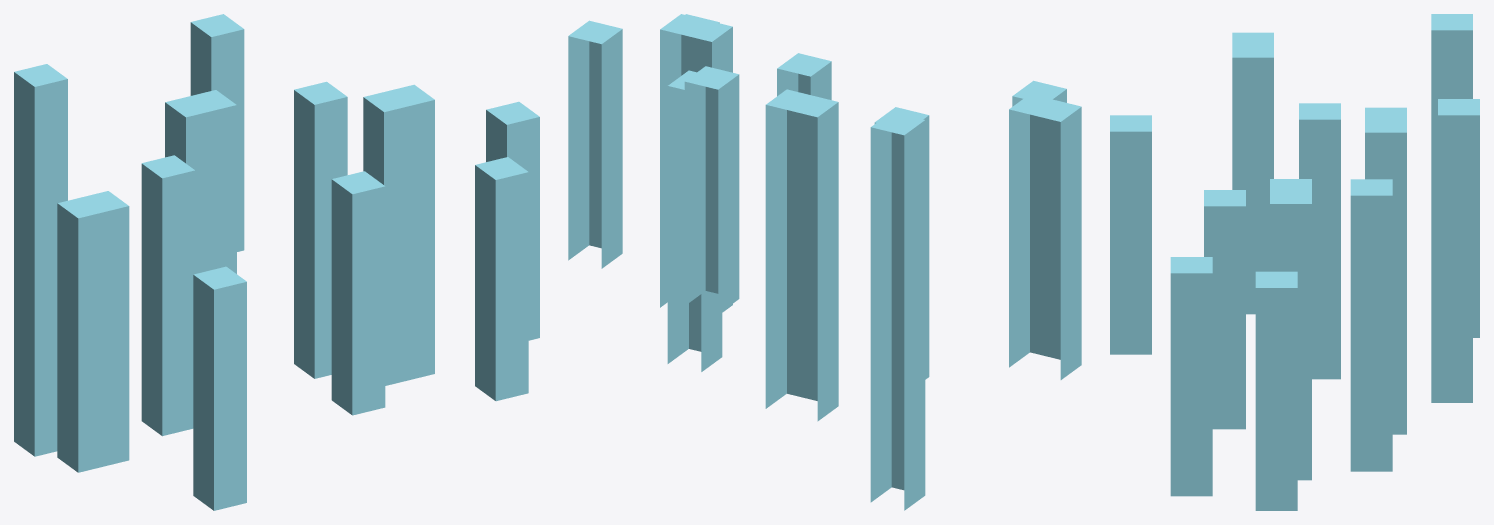
The model's file is buildings.fbx.
The picture shows the model from 3 angles, left to right: view 1: azimuth 30°, elevation 25°; view 2: azimuth 150°, elevation 25°; view 3: azimuth 270°, elevation 25°; orthographic projection.
Parts seen in each view (by area): view 1: background.001; view 2: background.001; view 3: background.001.
Part boxes in pixels (bbox=[...]): background.001: bbox=[14, 14, 539, 510]; background.001: bbox=[568, 14, 1081, 510]; background.001: bbox=[1110, 14, 1479, 510].
Size of the model in its own units: 10196 by 7683 by 6844.
